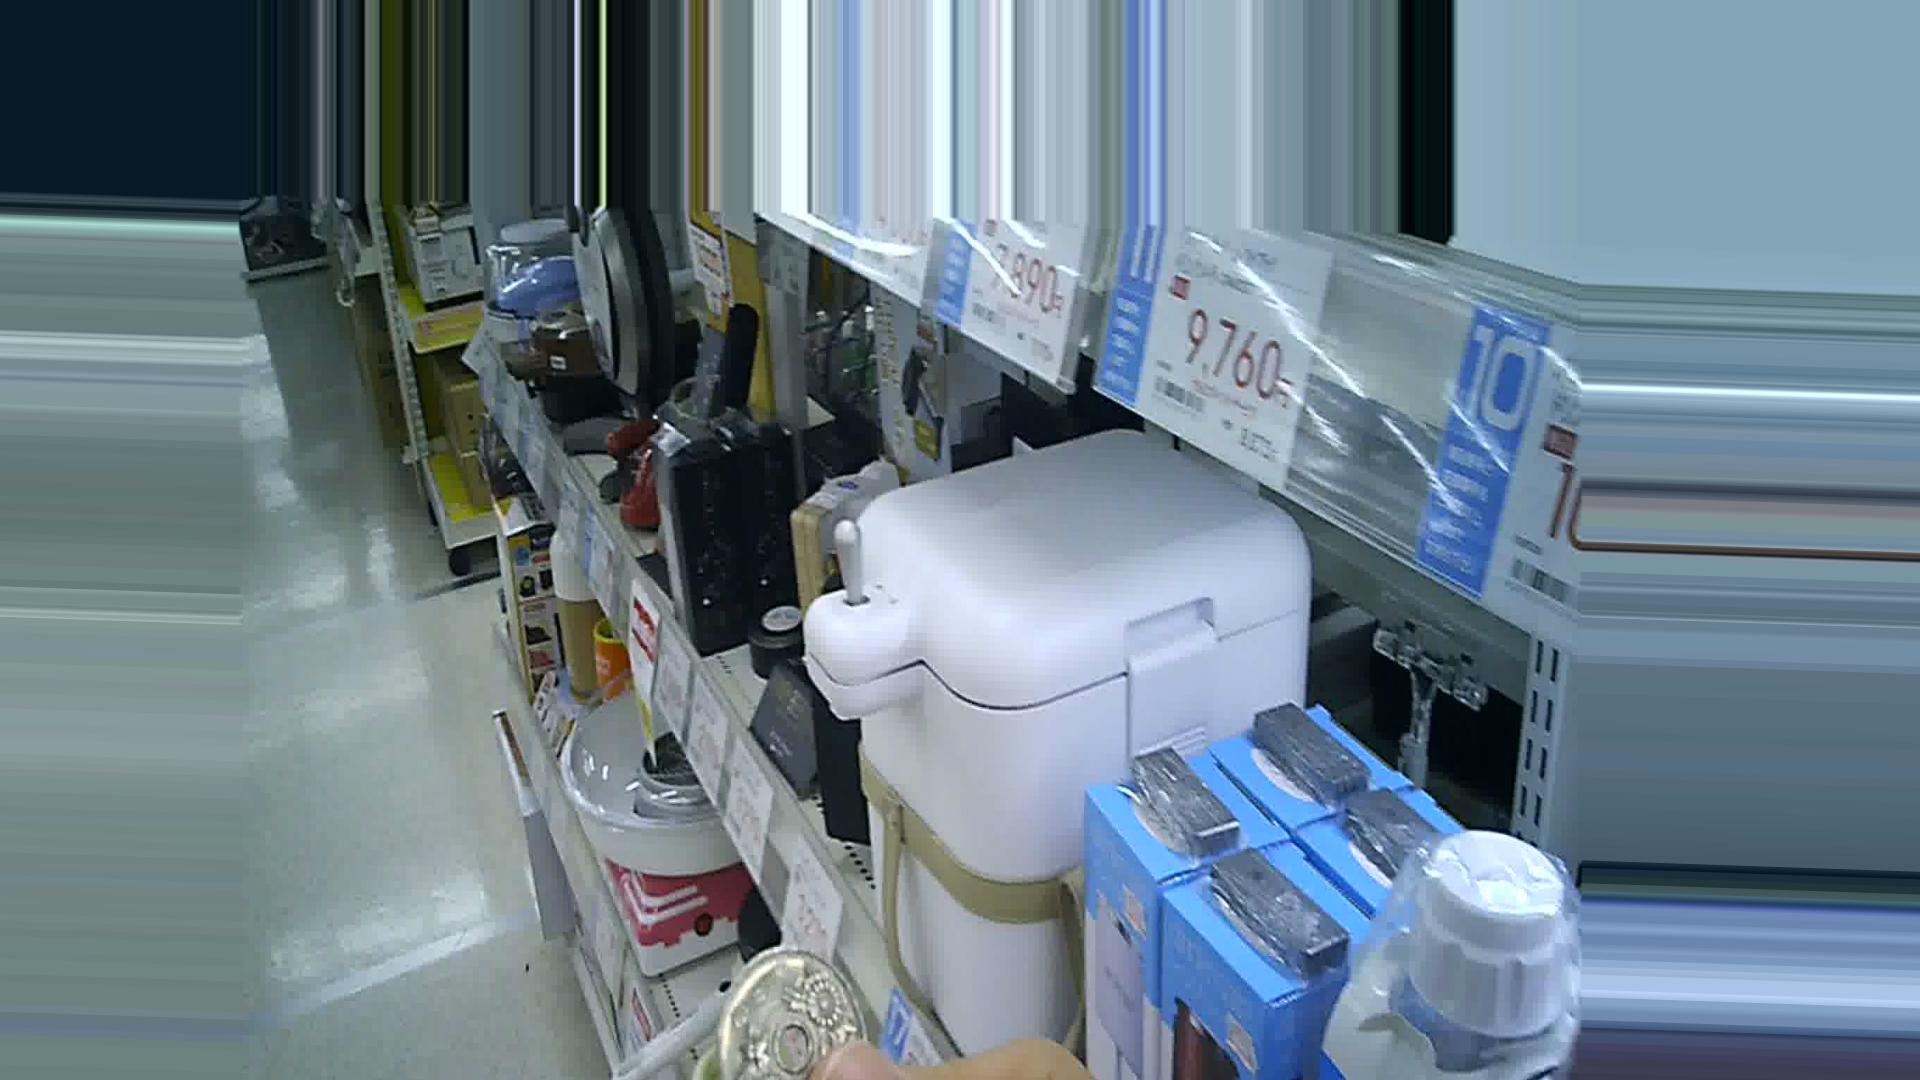50 Yen: (713, 940, 872, 1077)
